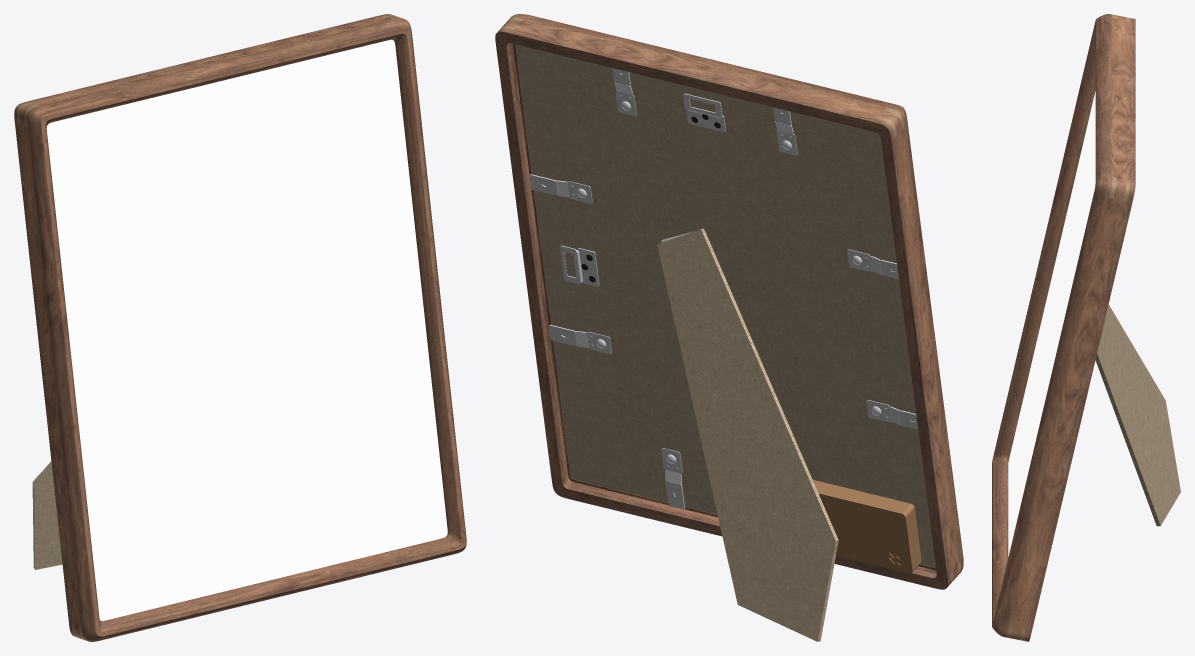
The model's file is featherframe-13.glb.
3 renders of one model, left to right at view 1: azimuth 30°, elevation 25°; view 2: azimuth 150°, elevation 25°; view 3: azimuth 270°, elevation 25°, orthographic. The views are drawn at different scales.
Visible parts, largest first — view 1: featherframe_picture, featherframe_mat, featherframe_walnut, featherframe_stand, featherframe_core; view 2: featherframe_mdf, featherframe_walnut, featherframe_stand, featherframe_silver, featherframe_pla; view 3: featherframe_walnut, featherframe_stand, featherframe_picture, featherframe_mat, featherframe_core.
Boxes of the visible parts, left/top/right/bottom form: featherframe_picture: left=99, top=123, right=387, bottom=535; featherframe_mat: left=46, top=39, right=447, bottom=620; featherframe_walnut: left=14, top=14, right=466, bottom=641; featherframe_stand: left=32, top=461, right=62, bottom=569; featherframe_core: left=99, top=121, right=390, bottom=537; featherframe_mdf: left=515, top=44, right=935, bottom=567; featherframe_walnut: left=495, top=14, right=963, bottom=589; featherframe_stand: left=657, top=228, right=838, bottom=641; featherframe_silver: left=529, top=68, right=918, bottom=509; featherframe_pla: left=813, top=480, right=921, bottom=573; featherframe_walnut: left=992, top=14, right=1135, bottom=641; featherframe_stand: left=1095, top=304, right=1180, bottom=526; featherframe_picture: left=1027, top=131, right=1094, bottom=477; featherframe_mat: left=1008, top=91, right=1095, bottom=556; featherframe_core: left=1024, top=118, right=1094, bottom=490.
Size of the model in its own units: 0.2952 by 0.3673 by 0.1362.
10 materials, 2 textured.
